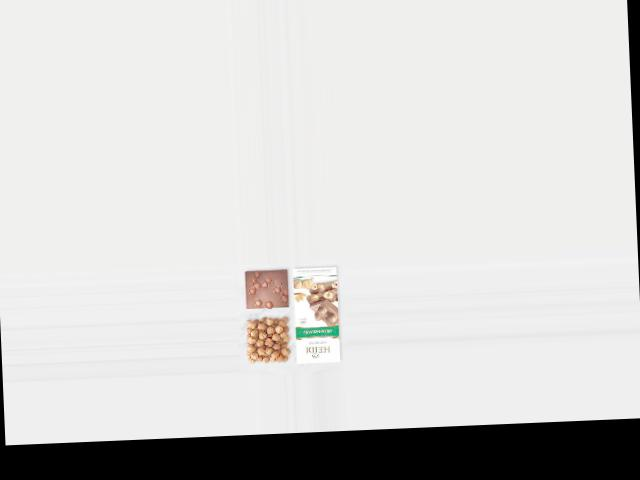chocolate: (239, 266, 291, 310)
